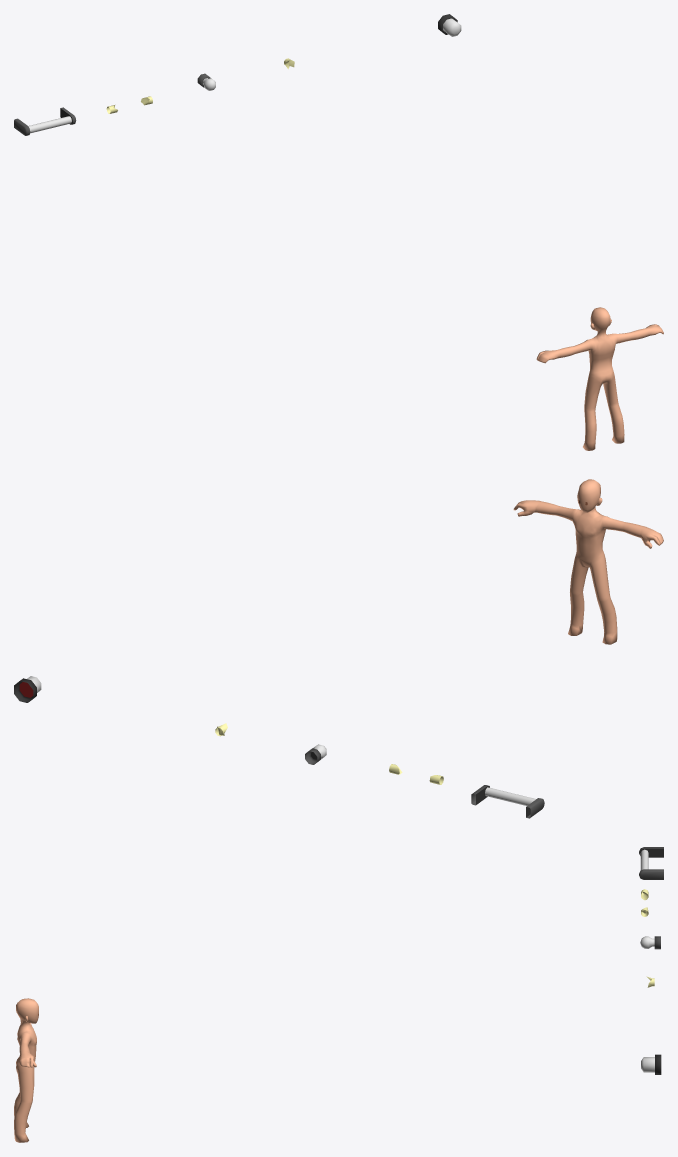
The model's file is lights.fbx.
The picture shows the model from 3 angles, top to bottom: view 1: azimuth 30°, elevation 25°; view 2: azimuth 150°, elevation 25°; view 3: azimuth 270°, elevation 25°; orthographic projection. The views are drawn at different scales.
Parts seen in each view (by area): view 1: Human; view 2: Human, Alarm Siren; view 3: Human, LightTubeFrame.
Boxes of the visible parts, x1=… form: Human: x1=536, y1=307, x2=663, y2=450; Human: x1=513, y1=479, x2=663, y2=644; Alarm Siren: x1=14, y1=676, x2=41, y2=702; Human: x1=14, y1=998, x2=38, y2=1142; LightTubeFrame: x1=639, y1=847, x2=663, y2=879.
Bounding box in the file's own units: 5.41 × 1.85 × 6.94.
